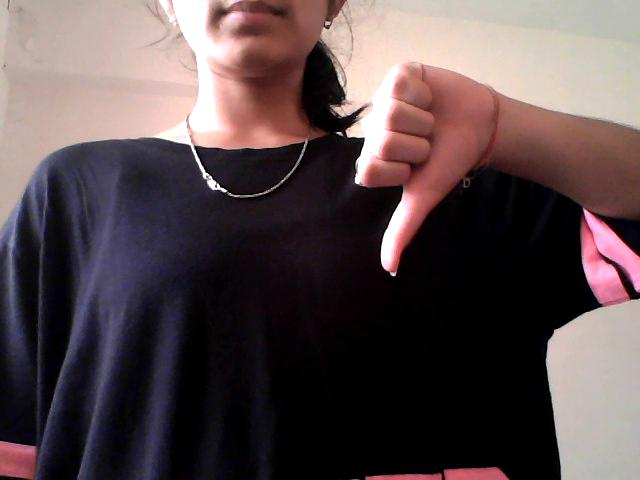thumbs-down: (293, 38, 509, 288)
